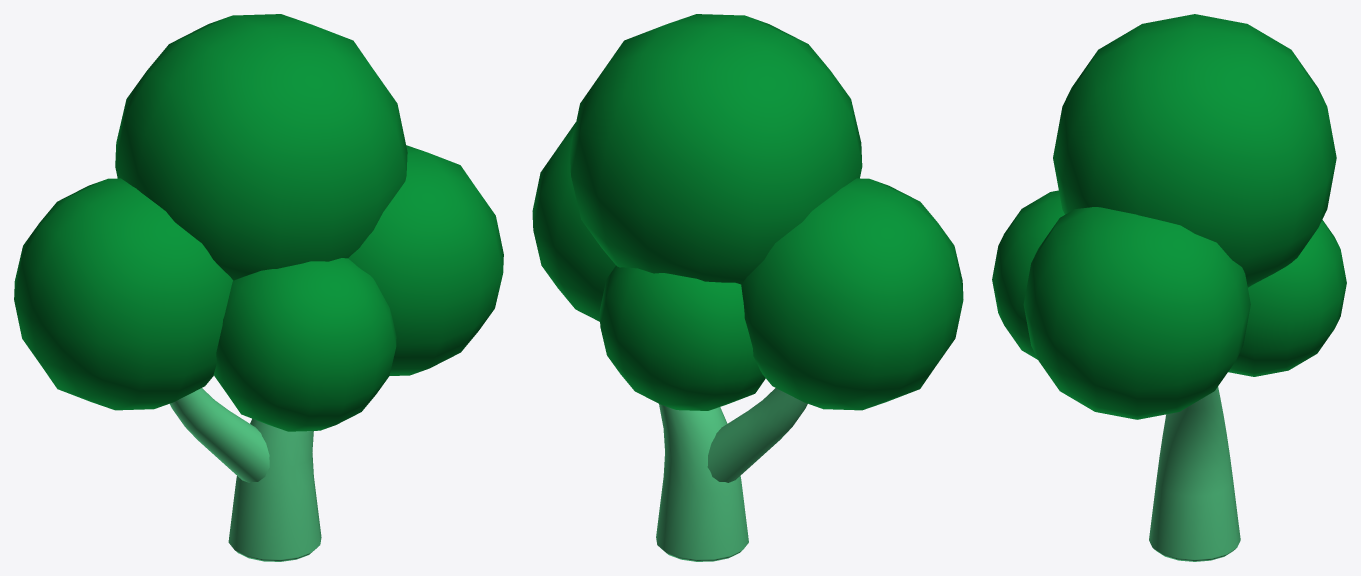
File: Store_19_Broccoli_1.glb
3 renders of one model, left to right at view 1: azimuth 30°, elevation 25°; view 2: azimuth 150°, elevation 25°; view 3: azimuth 270°, elevation 25°, orthographic. The views are drawn at different scales.
Parts seen in each view (by area): view 1: Store_19_Broccoli_1; view 2: Store_19_Broccoli_1; view 3: Store_19_Broccoli_1.
Part boxes in pixels (<box>): Store_19_Broccoli_1: <box>14,14,503,561</box>; Store_19_Broccoli_1: <box>532,14,963,561</box>; Store_19_Broccoli_1: <box>992,14,1346,561</box>.
Size of the model in its own units: 0.4998 by 0.5804 by 0.3672.
Materials: 1 (1 with a texture image).
